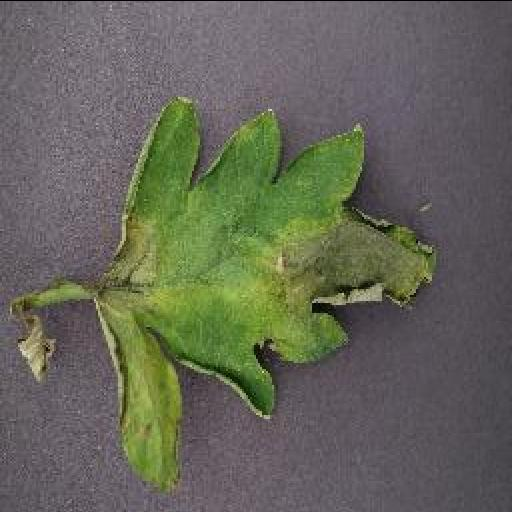disease_tomato: (96, 100, 438, 486)
